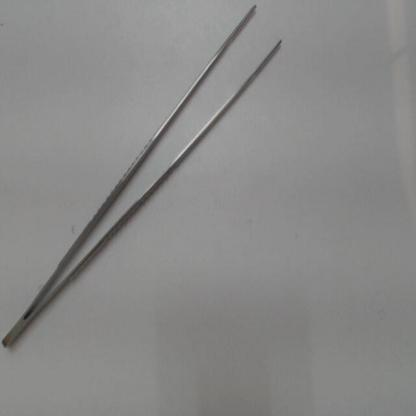DeBakey Dissector: (5, 1, 291, 360)
